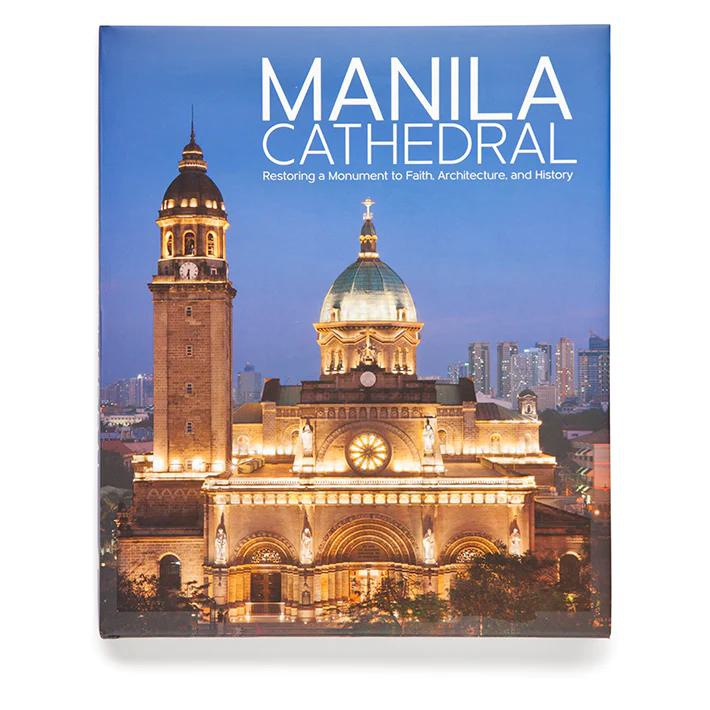manila_cathedral_church_intramuros_manila: (114, 103, 558, 612)
